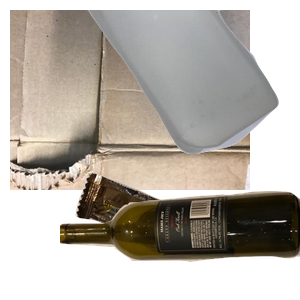cardboard: (10, 10, 250, 190)
glass: (60, 189, 300, 300)
plastic: (84, 10, 300, 157)
trash: (73, 171, 242, 300)
